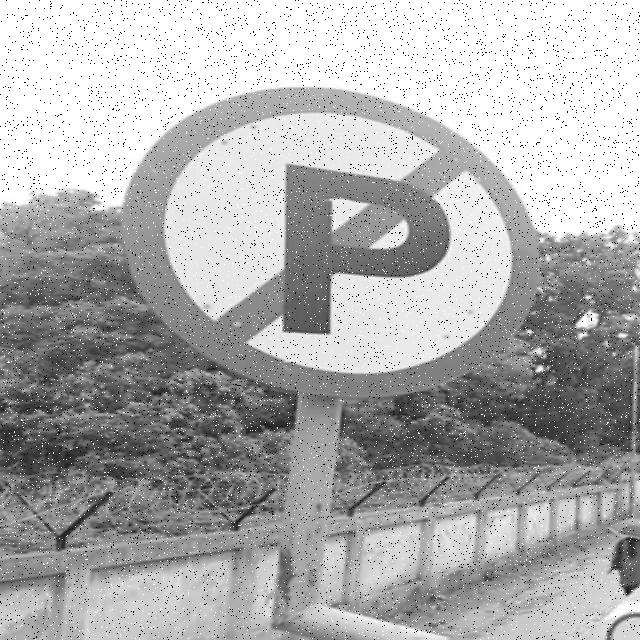No_parking: (123, 67, 551, 465)
